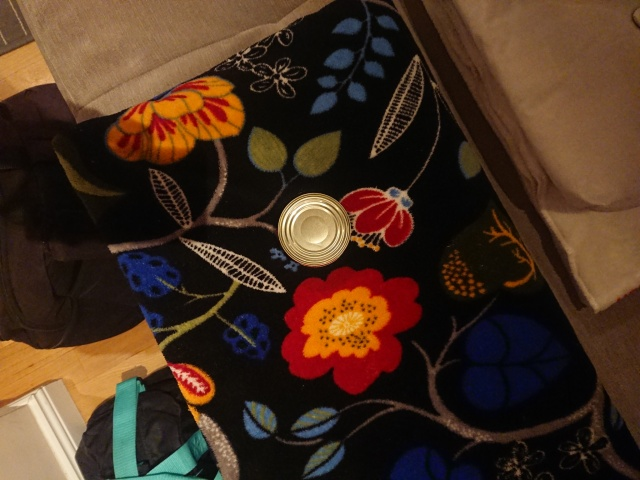Podravka Luncheon Meat 150g: (275, 189, 352, 270)
